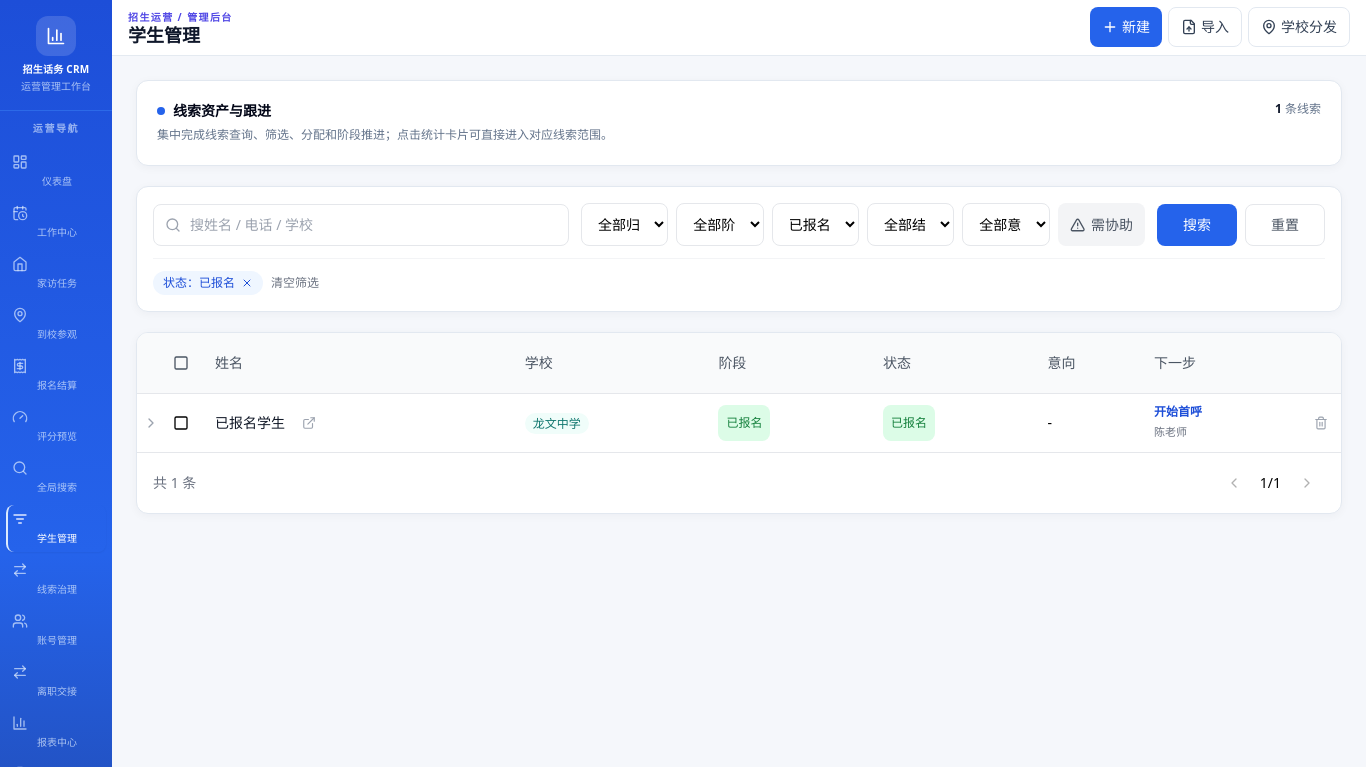
it: LeadsManage privacy › blocks batch assignment when selected students include enrolled records
This screenshot has width=1366, height=767.
Check: the text "已报名学生" is shown, box [215,413,285,433]
Click the button named "选择 已报名学生": [181, 423] box [163,405,199,441]
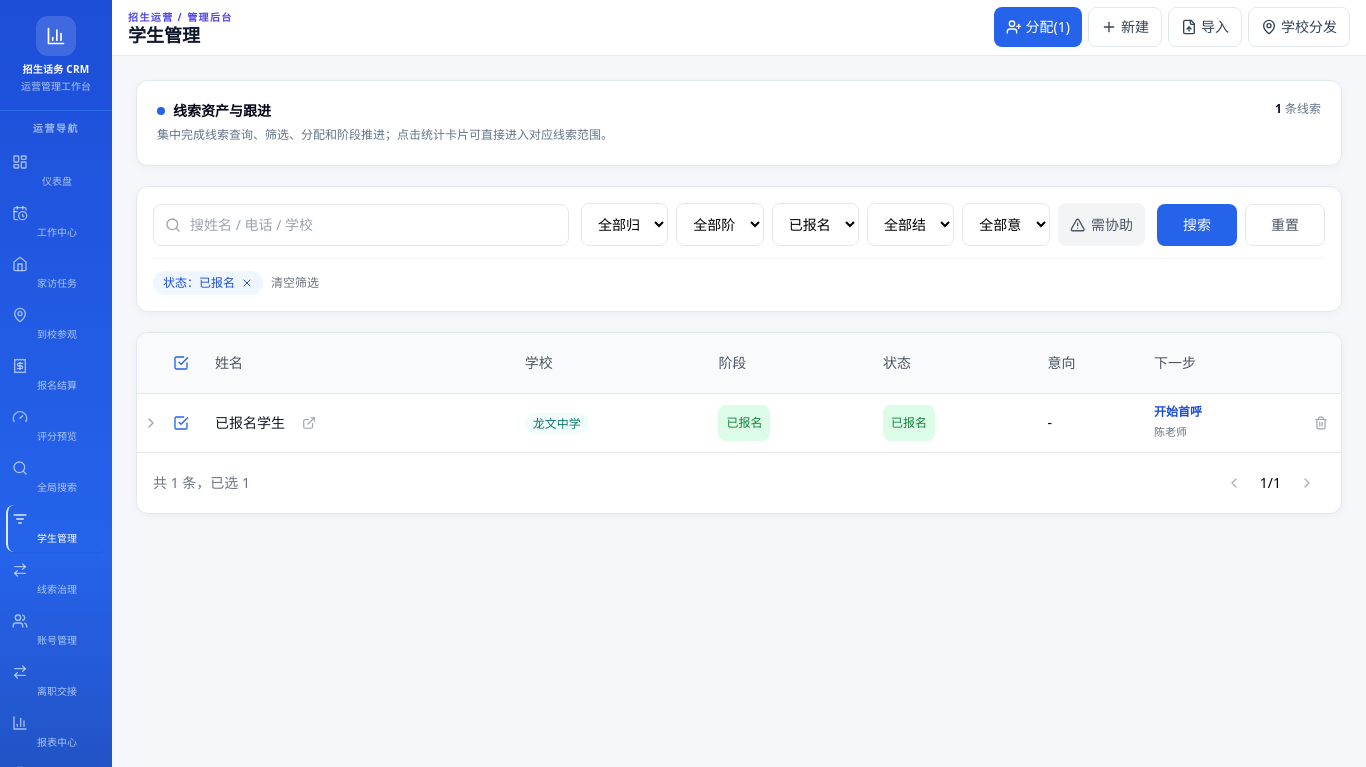
Click the button with aria-label "分配已选": [1038, 27] box [994,7,1082,47]
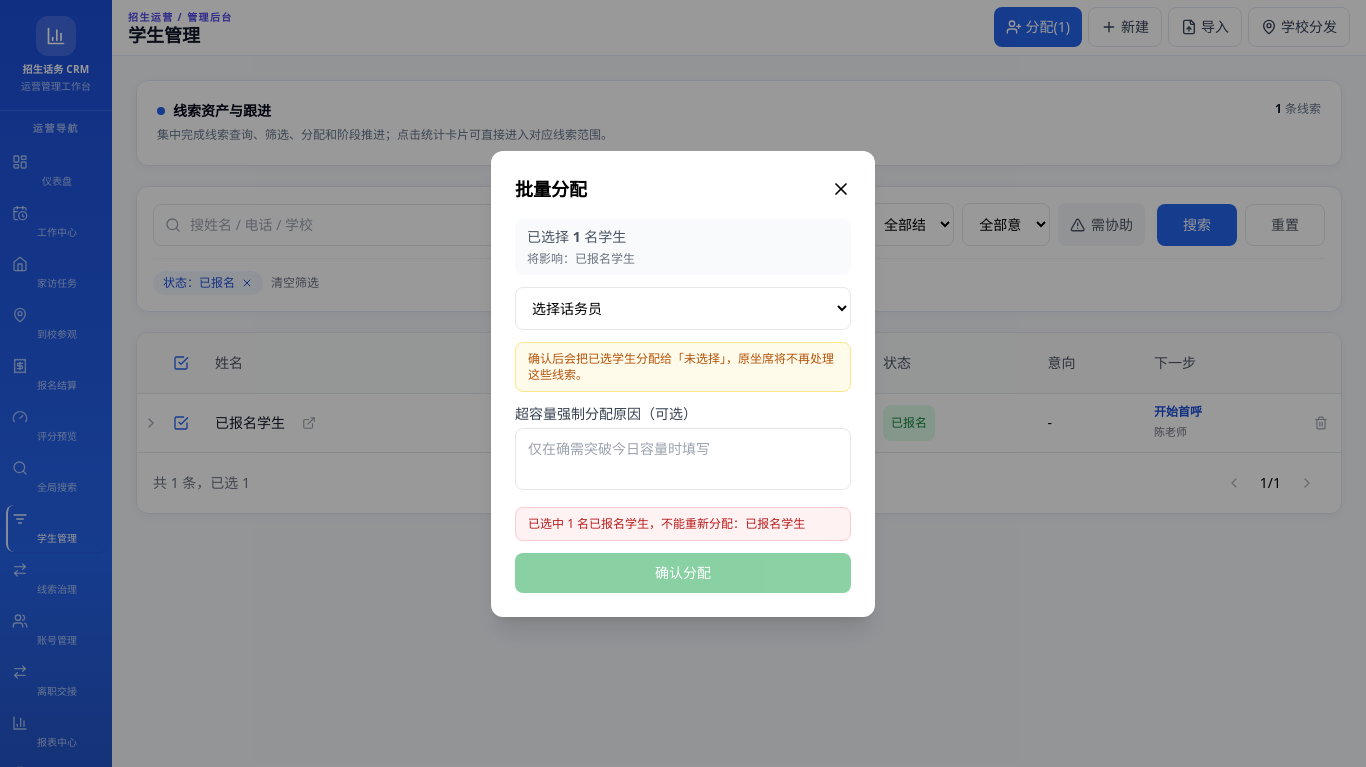
Check: the text "已选中 1 名已报名学生，不能重新分配：已报名学生" is shown, box [515,507,851,541]
Check: the button "确认分配" is disabled, box [515,553,851,593]
